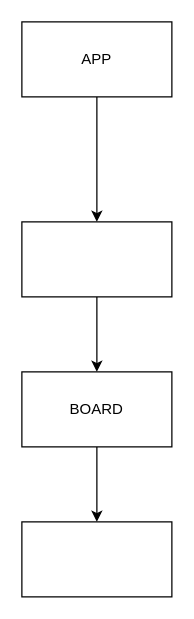
Some shapes in this 194 by 619 pixel diagram are drawn without their labels. Each missing label, with the centre of its shape:
GAME: (96,259)
SQUARE: (96,559)
